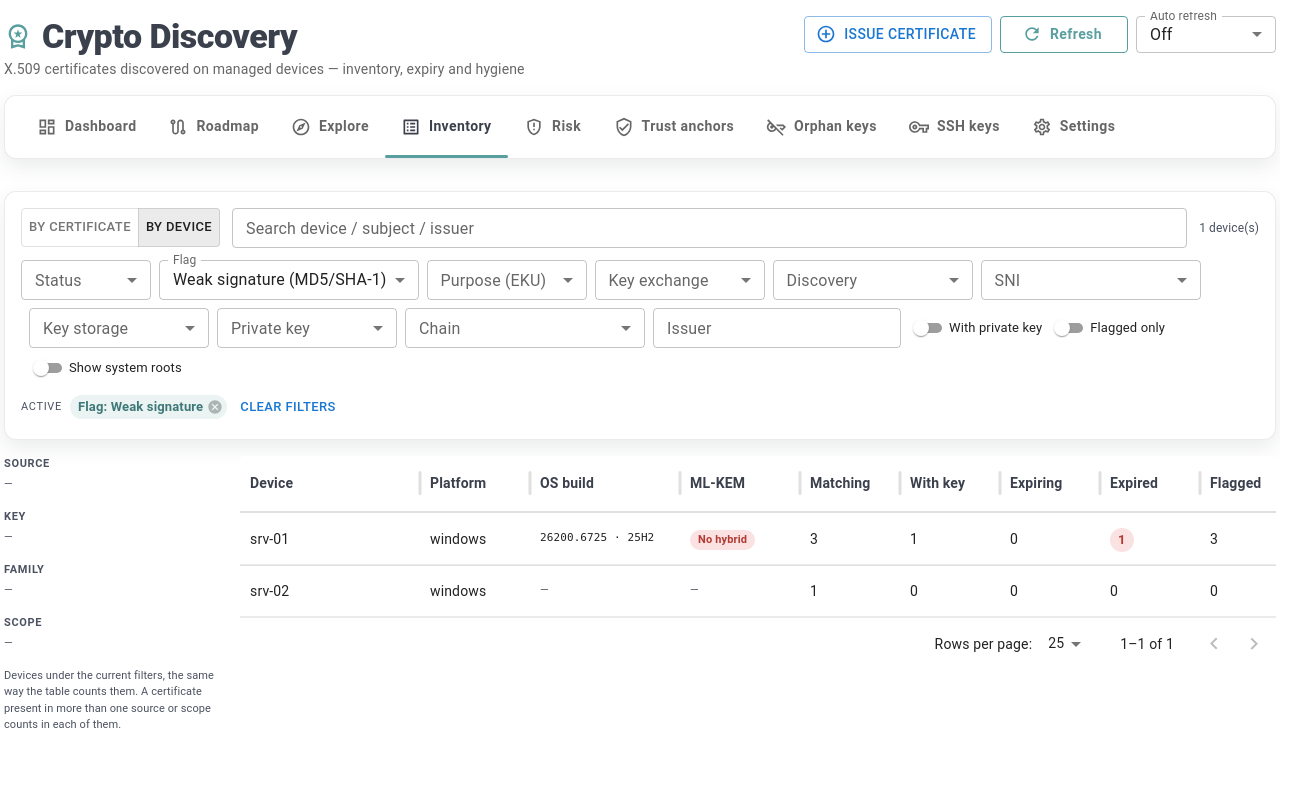
Scenario: Inventory: una lista, dos agrupaciones › ⭐ cambiar a «por certificado» conserva el filtro y pide certificados
The width and height of the screenshot is (1292, 812).
Click the button "By certificate" at (80, 228), box [21,208,139,247]
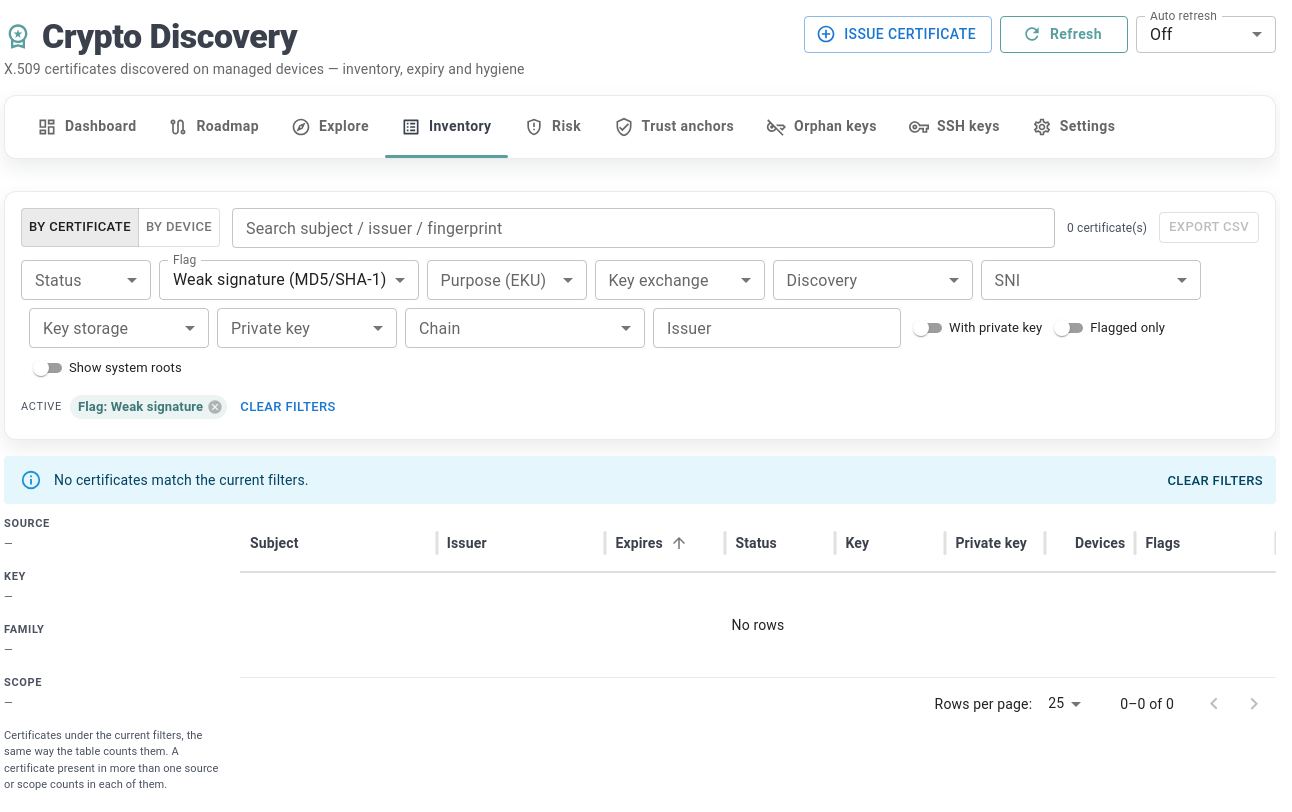
Now the button "Export CSV" is shown, box [1159,212,1259,243]
